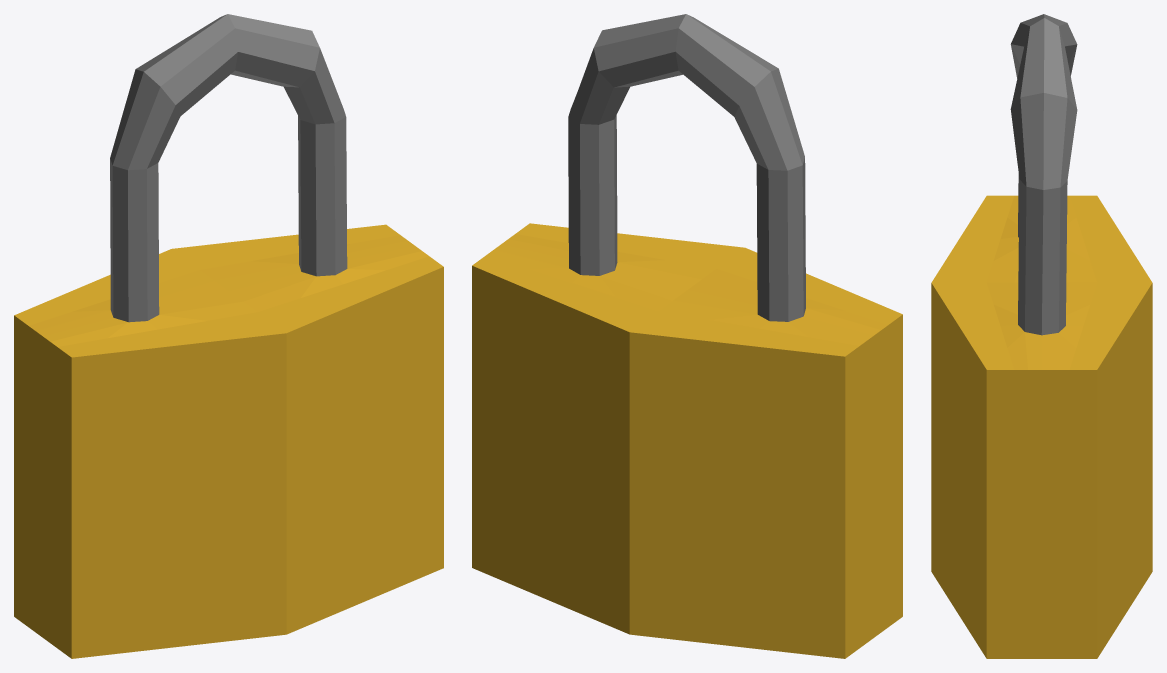
Rendered from Lock.fbx.
The picture shows the model from 3 angles, left to right: view 1: azimuth 30°, elevation 25°; view 2: azimuth 150°, elevation 25°; view 3: azimuth 270°, elevation 25°; orthographic projection. The views are drawn at different scales.
Visible parts, largest first — view 1: Cylinder; view 2: Cylinder; view 3: Cylinder.
Part boxes in pixels (left/top/right/bottom): Cylinder: left=14, top=14, right=443, bottom=658; Cylinder: left=472, top=14, right=902, bottom=658; Cylinder: left=931, top=14, right=1152, bottom=658.
Bounding box in the file's own units: 373 × 553 × 200.
